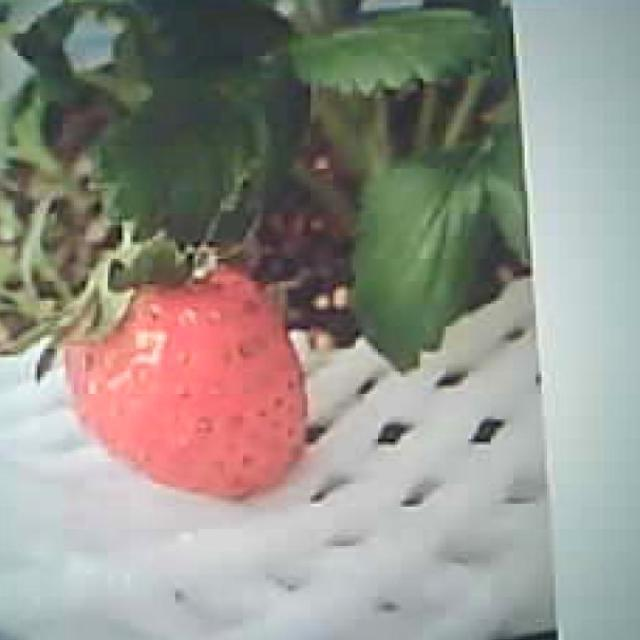Healthy Fruit: (62, 267, 310, 501)
